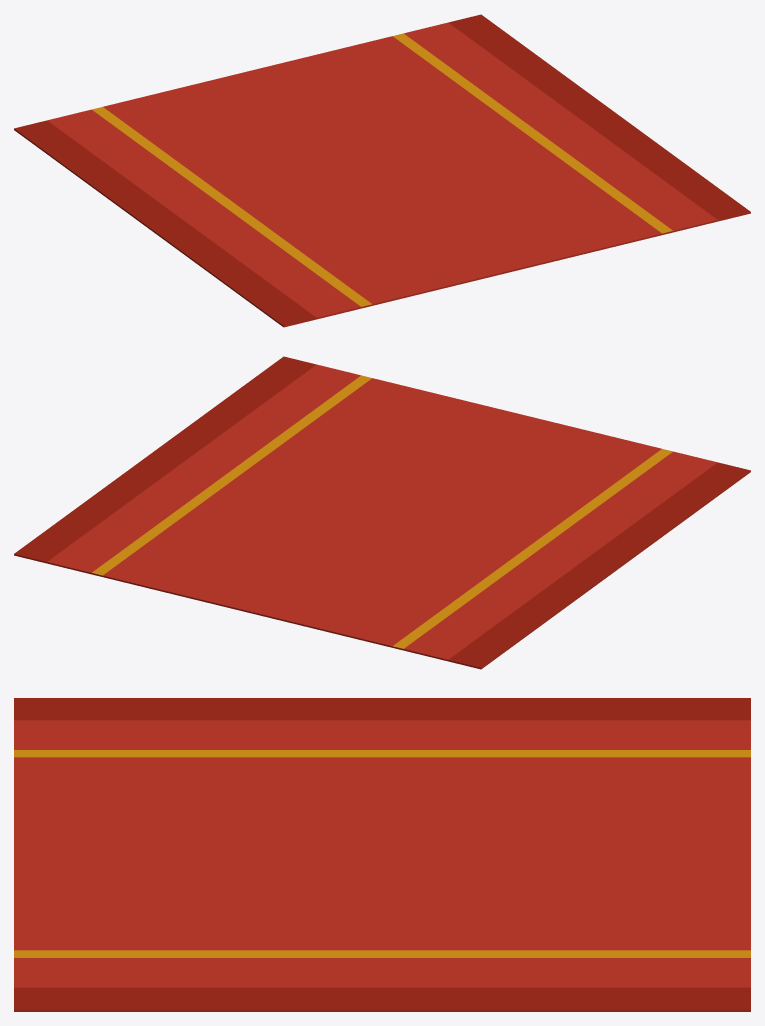
File: Carpet.fbx
3 renders of one model, top to bottom at view 1: azimuth 30°, elevation 25°; view 2: azimuth 150°, elevation 25°; view 3: azimuth 270°, elevation 25°, orthographic. The views are drawn at different scales.
Parts seen in each view (by area): view 1: Carpet; view 2: Carpet; view 3: Carpet.
Part boxes in pixels (<box>): Carpet: <box>14,14,750,327</box>; Carpet: <box>14,356,750,669</box>; Carpet: <box>14,698,750,1011</box>.
Bounding box in the file's own units: 400 × 1.33 × 400.
